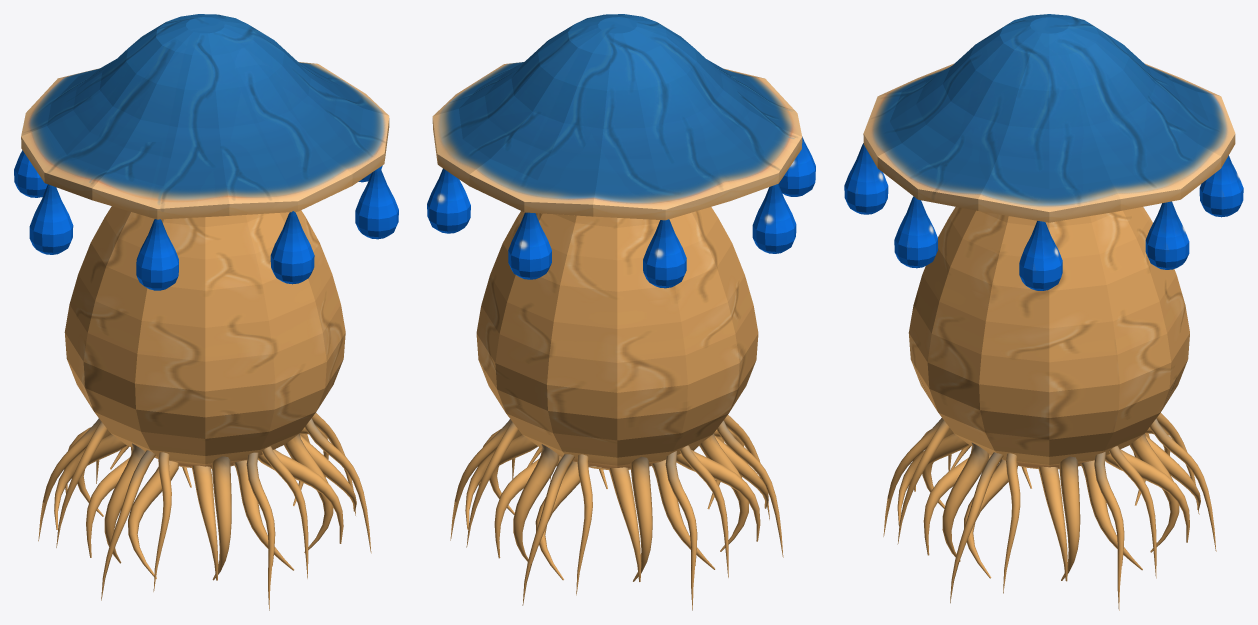
The model's file is Mushroom2.fbx.
3 views of the same model, side by side, from view 1: azimuth 30°, elevation 25°; view 2: azimuth 150°, elevation 25°; view 3: azimuth 270°, elevation 25° (orthographic).
Parts seen in each view (by area): view 1: Mushroom2; view 2: Mushroom2; view 3: Mushroom2.
Part boxes in pixels (x1,y1,x2,y2): Mushroom2: (14,14,398,610); Mushroom2: (427,14,815,610); Mushroom2: (844,14,1243,610).
Size of the model in its own units: 917 by 1322 by 917.
Materials: 1 (1 with a texture image).
